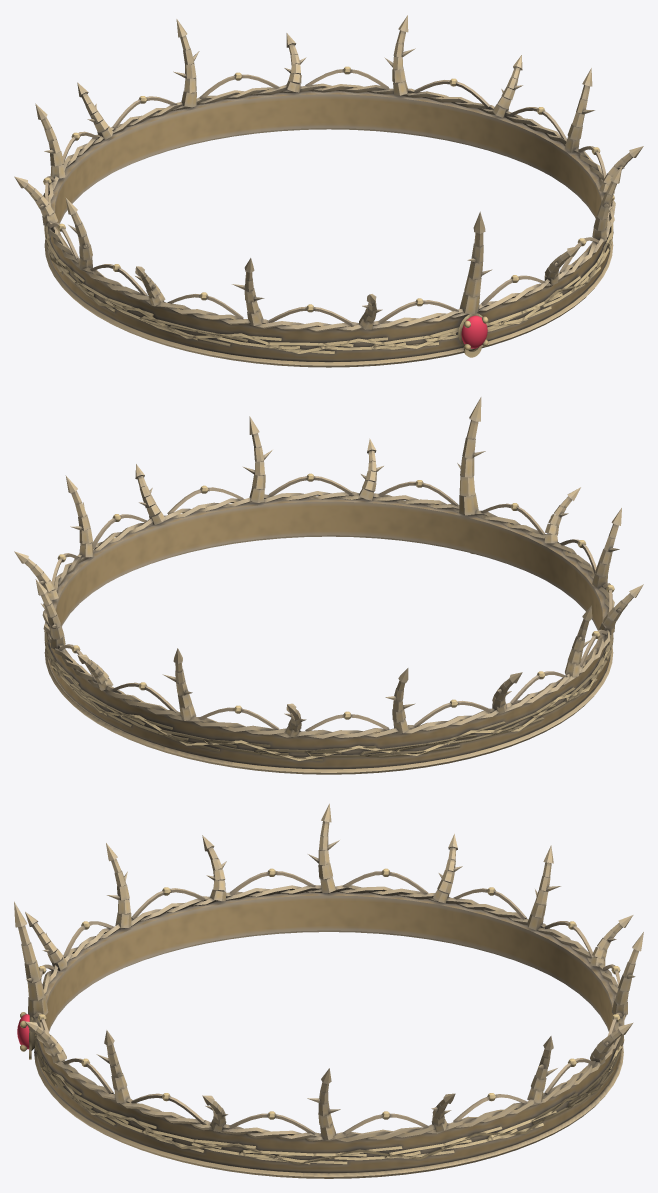
The model's file is NHAcc_ThornCrown.fbx.
3 renders of one model, top to bottom at view 1: azimuth 30°, elevation 25°; view 2: azimuth 150°, elevation 25°; view 3: azimuth 270°, elevation 25°, orthographic. The views are drawn at different scales.
Parts seen in each view (by area): view 1: ThornCrown; view 2: ThornCrown; view 3: ThornCrown.
Boxes of the visible parts, box(x1,y1,x2,y2) form: ThornCrown: box(14, 15, 643, 367); ThornCrown: box(14, 397, 643, 774); ThornCrown: box(14, 803, 643, 1178).
Bounding box in the file's own units: 1.38 × 0.3806 × 1.38.
